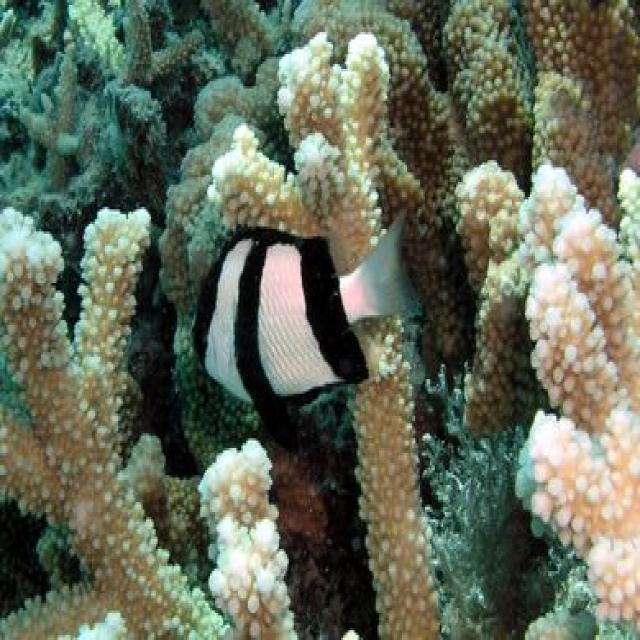Three_striped DasmselFish: (170, 211, 423, 406)
